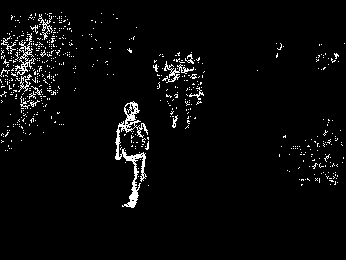person: (113, 100, 152, 210), (180, 52, 206, 133), (157, 65, 182, 129)
